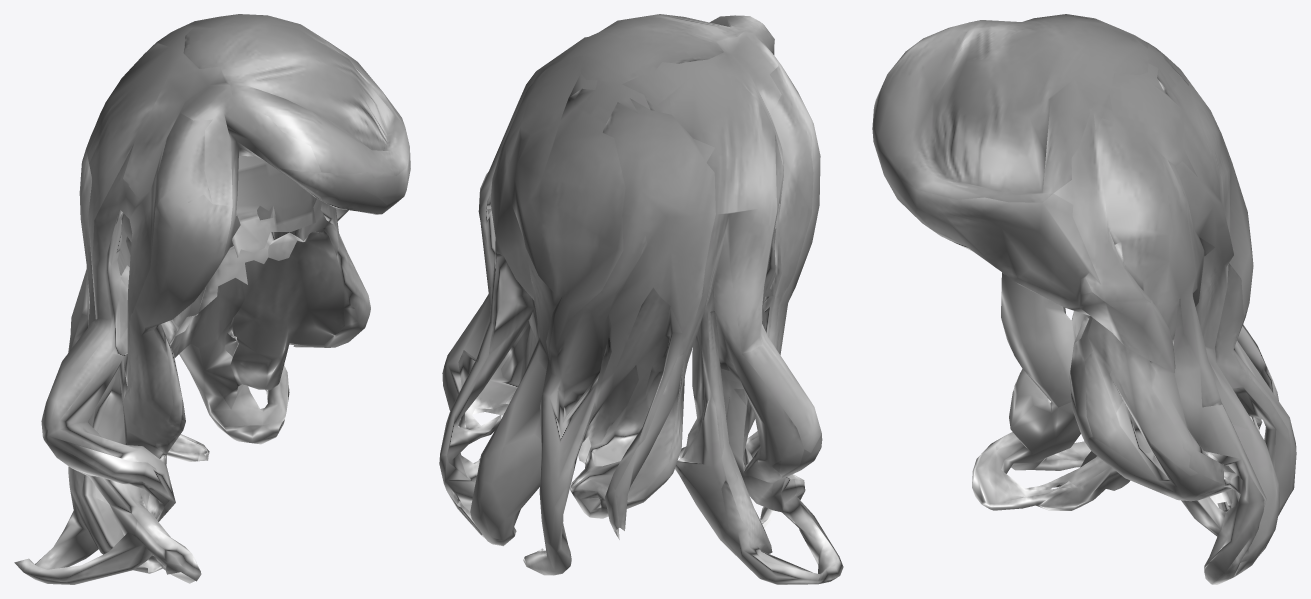
The model's file is waves-long.glb.
3 renders of one model, left to right at view 1: azimuth 30°, elevation 25°; view 2: azimuth 150°, elevation 25°; view 3: azimuth 270°, elevation 25°, orthographic. The views are drawn at different scales.
Parts seen in each view (by area): view 1: waves-long; view 2: waves-long; view 3: waves-long.
Part boxes in pixels (<box>): waves-long: <box>14,14,410,584</box>; waves-long: <box>439,14,843,584</box>; waves-long: <box>872,14,1296,584</box>.
Bounding box in the file's own units: 0.2791 × 0.3749 × 0.2703.
Materials: 1 (1 with a texture image).
